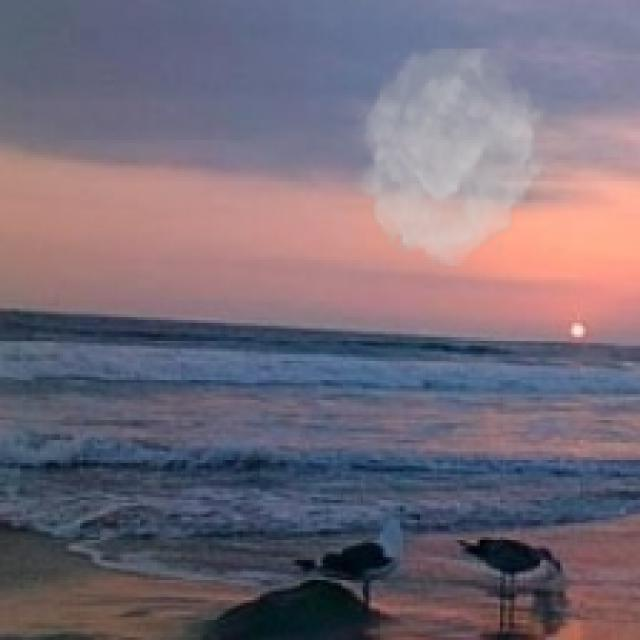smoke: (349, 48, 554, 266)
